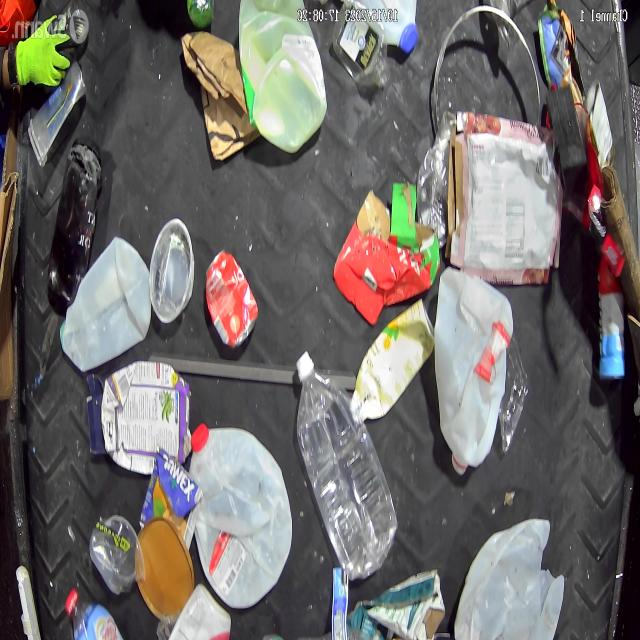can: (204, 246, 258, 349)
milk_jug: (188, 419, 294, 595), (434, 259, 510, 481), (454, 515, 562, 640), (238, 0, 326, 153), (64, 238, 153, 378)
plastic_bottle: (290, 343, 395, 564)
